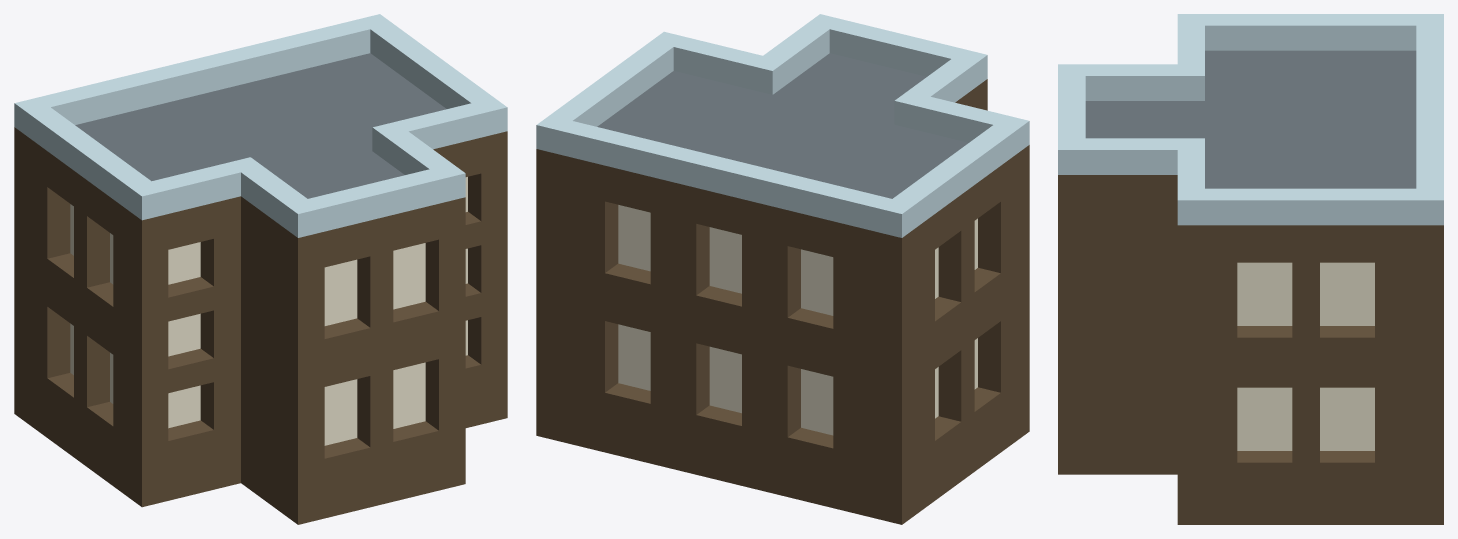
File: Building_12 (Brown).obj
3 views of the same model, side by side, from view 1: azimuth 30°, elevation 25°; view 2: azimuth 150°, elevation 25°; view 3: azimuth 270°, elevation 25° (orthographic). The views are drawn at different scales.
Visible parts, largest first — view 1: Building_12_(Brown); view 2: Building_12_(Brown); view 3: Building_12_(Brown).
Boxes of the visible parts, x1=… form: Building_12_(Brown): x1=14, y1=14, x2=507, y2=524; Building_12_(Brown): x1=536, y1=14, x2=1029, y2=524; Building_12_(Brown): x1=1058, y1=14, x2=1443, y2=524.
Bounding box in the file's own units: 1.6 × 1.3 × 1.4.
